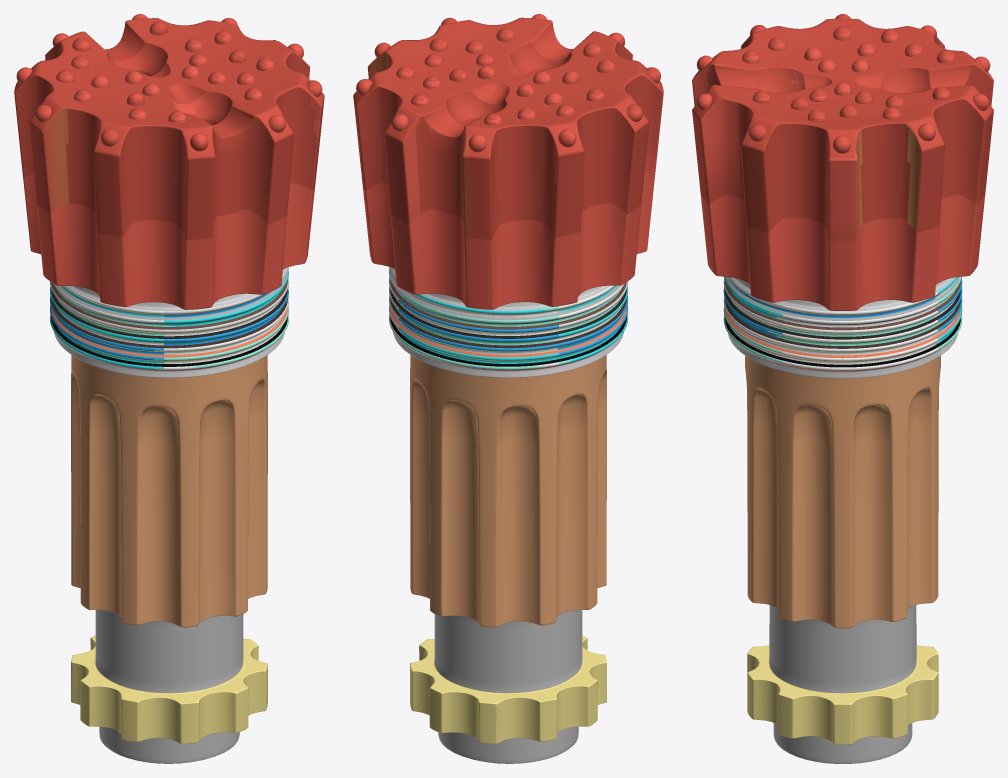
File: Club.fbx
3 views of the same model, side by side, from view 1: azimuth 30°, elevation 25°; view 2: azimuth 150°, elevation 25°; view 3: azimuth 270°, elevation 25° (orthographic).
Parts seen in each view (by area): view 1: Club; view 2: Club; view 3: Club.
Boxes of the visible parts, x1=… form: Club: x1=14, y1=14, x2=324, y2=763; Club: x1=353, y1=14, x2=663, y2=763; Club: x1=692, y1=14, x2=993, y2=763.
Size of the model in its own units: 4.7 by 11.15 by 4.58.
